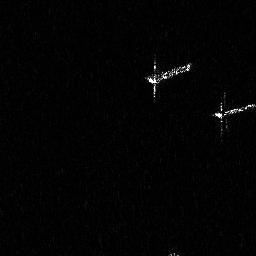ship: (210, 90, 256, 144), (144, 53, 193, 102)
